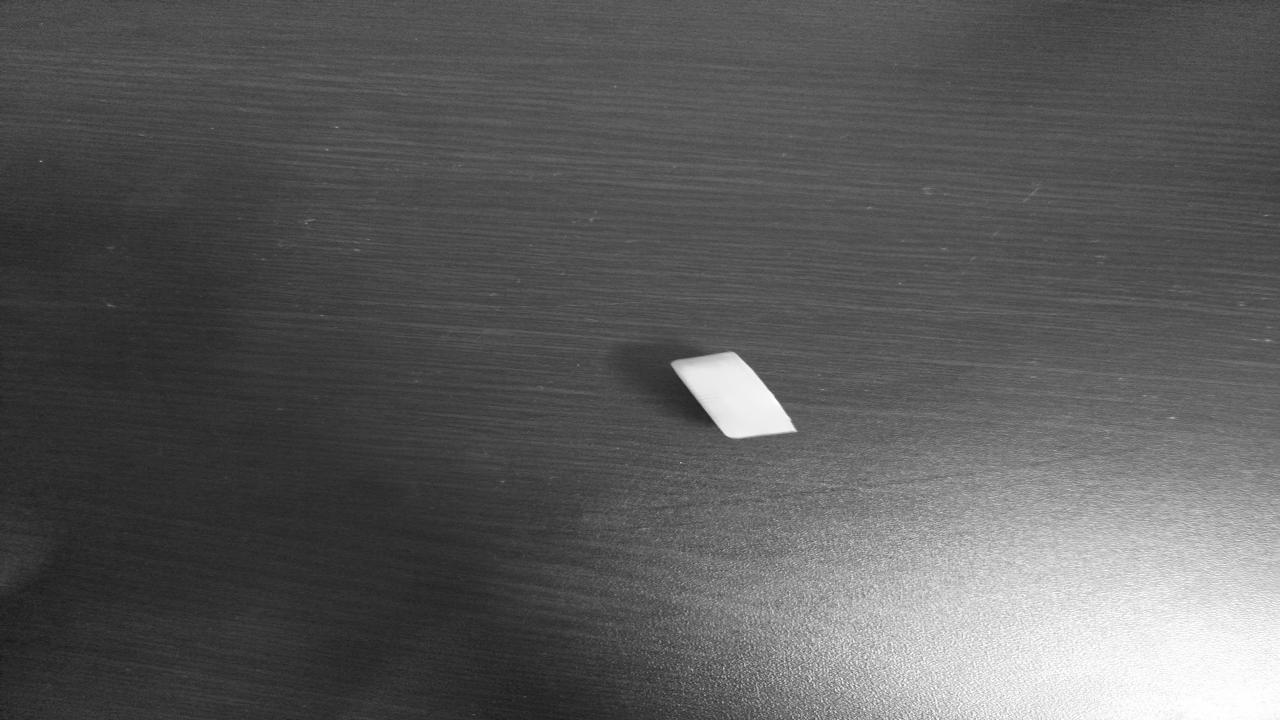bottle_cap: (678, 354, 794, 437)
